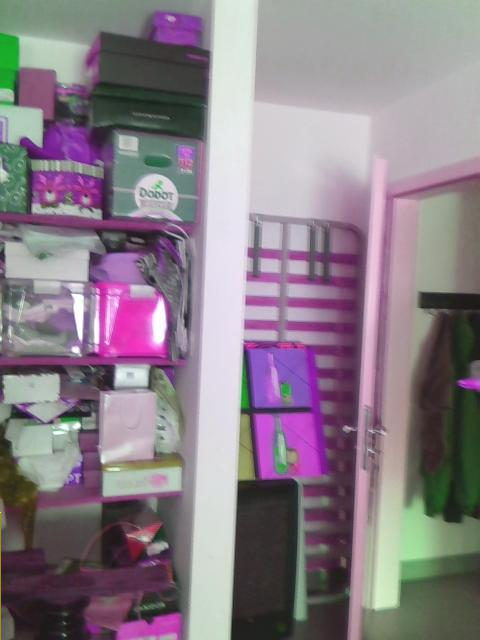semi_door: (342, 152, 479, 637)
